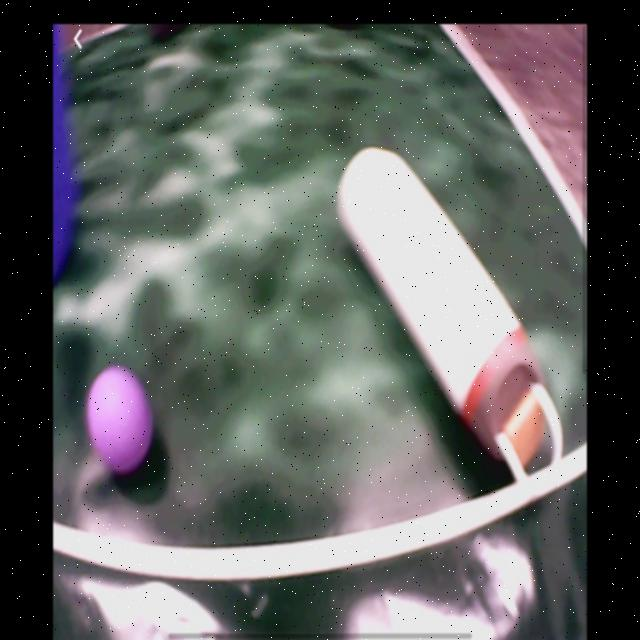ball: (89, 368, 154, 477)
